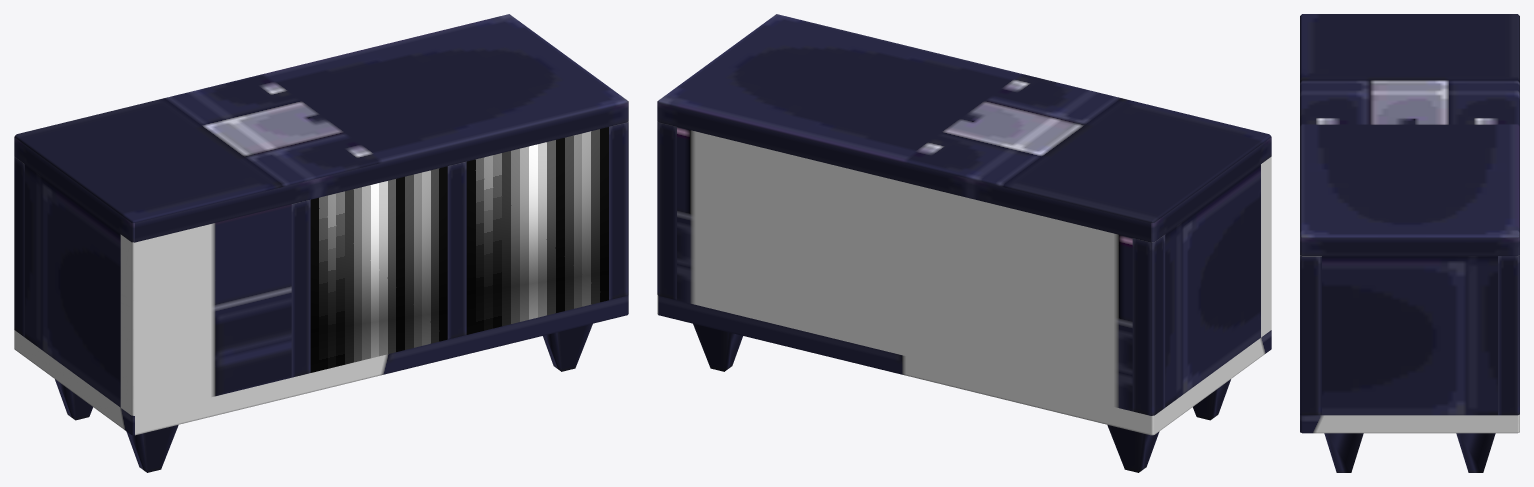
The model's file is rmk_mnc_bookshelf.dae.
The picture shows the model from 3 angles, left to right: view 1: azimuth 30°, elevation 25°; view 2: azimuth 150°, elevation 25°; view 3: azimuth 270°, elevation 25°; orthographic projection. The views are drawn at different scales.
Parts seen in each view (by area): view 1: rmk_mnc_bookshelf; view 2: rmk_mnc_bookshelf; view 3: rmk_mnc_bookshelf.
Boxes of the visible parts, <box> form: rmk_mnc_bookshelf: <box>14,14,628,472</box>; rmk_mnc_bookshelf: <box>657,14,1271,472</box>; rmk_mnc_bookshelf: <box>1300,14,1519,472</box>.
Size of the model in its own units: 57.6 by 30.4 by 24.
2 materials, 2 textured.
